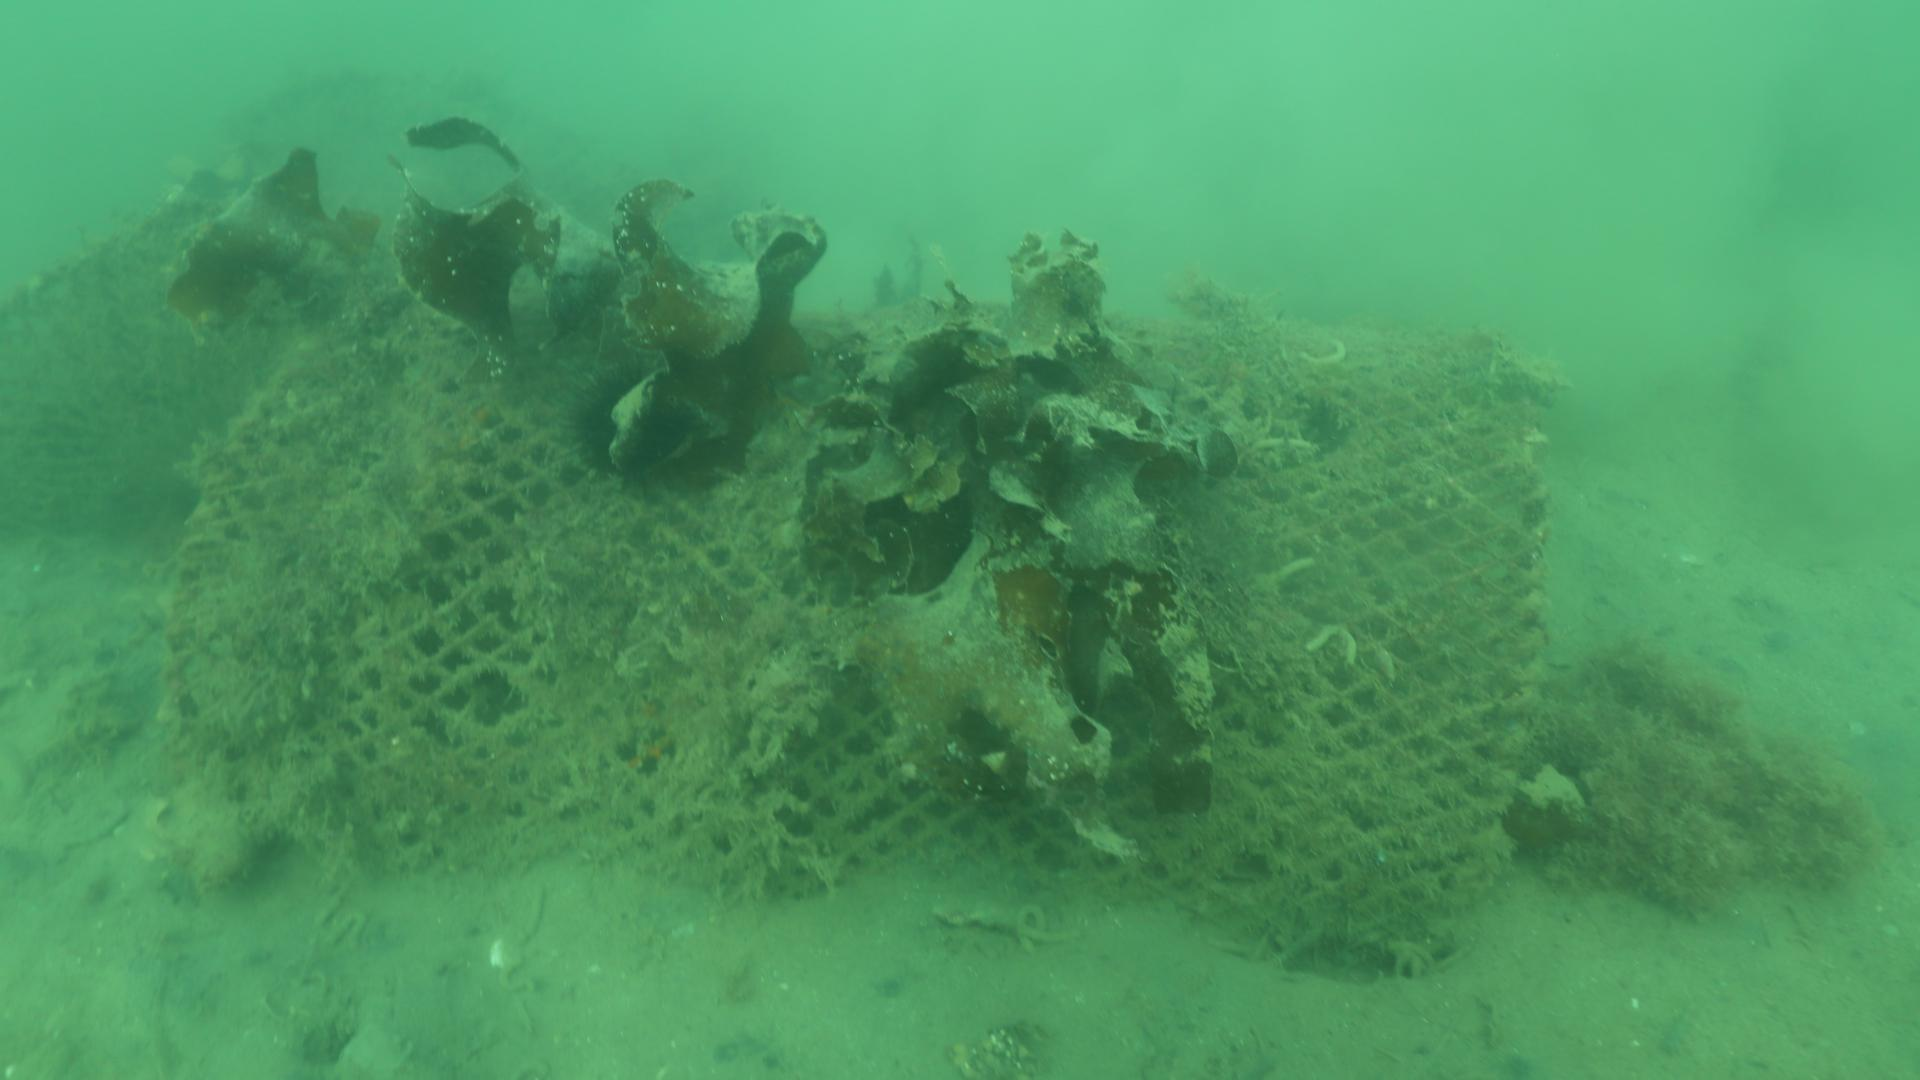spring fish trap: (158, 272, 1551, 982)
